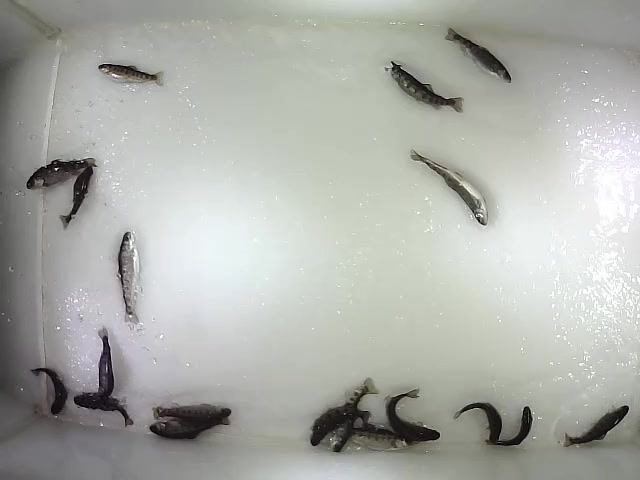fish: (408, 148, 490, 227), (384, 60, 466, 115), (444, 27, 513, 85), (330, 377, 381, 454), (385, 387, 442, 444), (562, 404, 631, 449), (309, 403, 372, 447), (26, 156, 100, 192), (114, 230, 141, 326), (329, 426, 417, 454), (57, 165, 94, 231), (453, 401, 504, 445), (149, 414, 231, 441), (485, 404, 534, 448), (73, 393, 134, 427), (29, 366, 70, 416), (97, 62, 166, 89), (151, 402, 234, 423), (95, 326, 115, 399)
